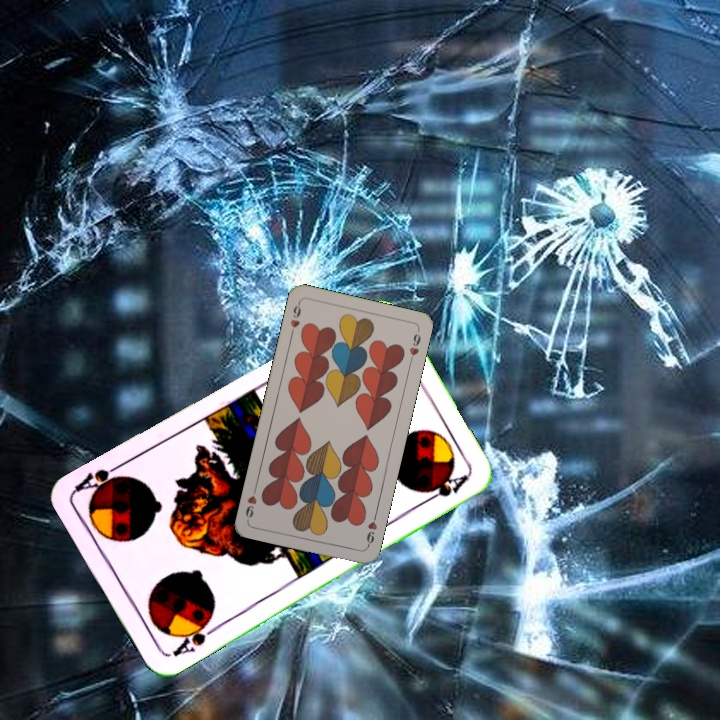H9: (362, 510, 380, 550), (286, 298, 303, 338)
SA: (168, 614, 221, 660)
